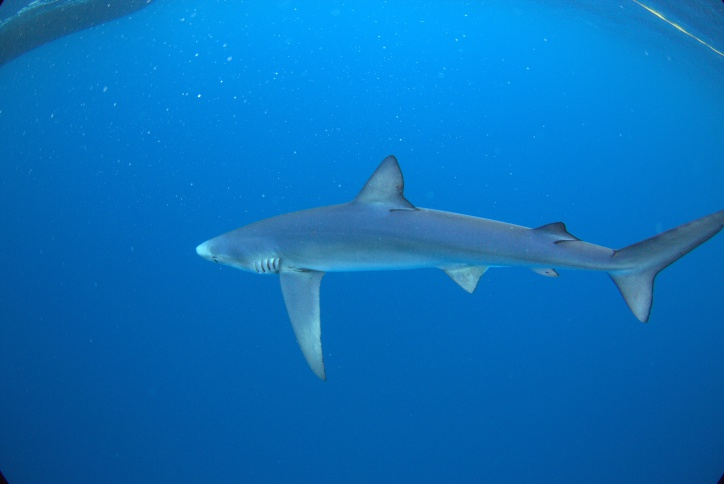Azul: (189, 150, 724, 390)
